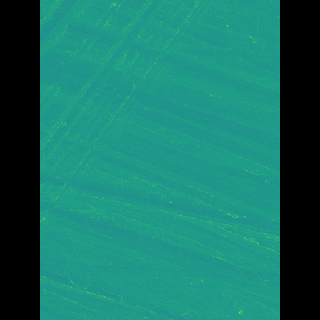Loch: (68, 0, 201, 244), (68, 165, 250, 244)
